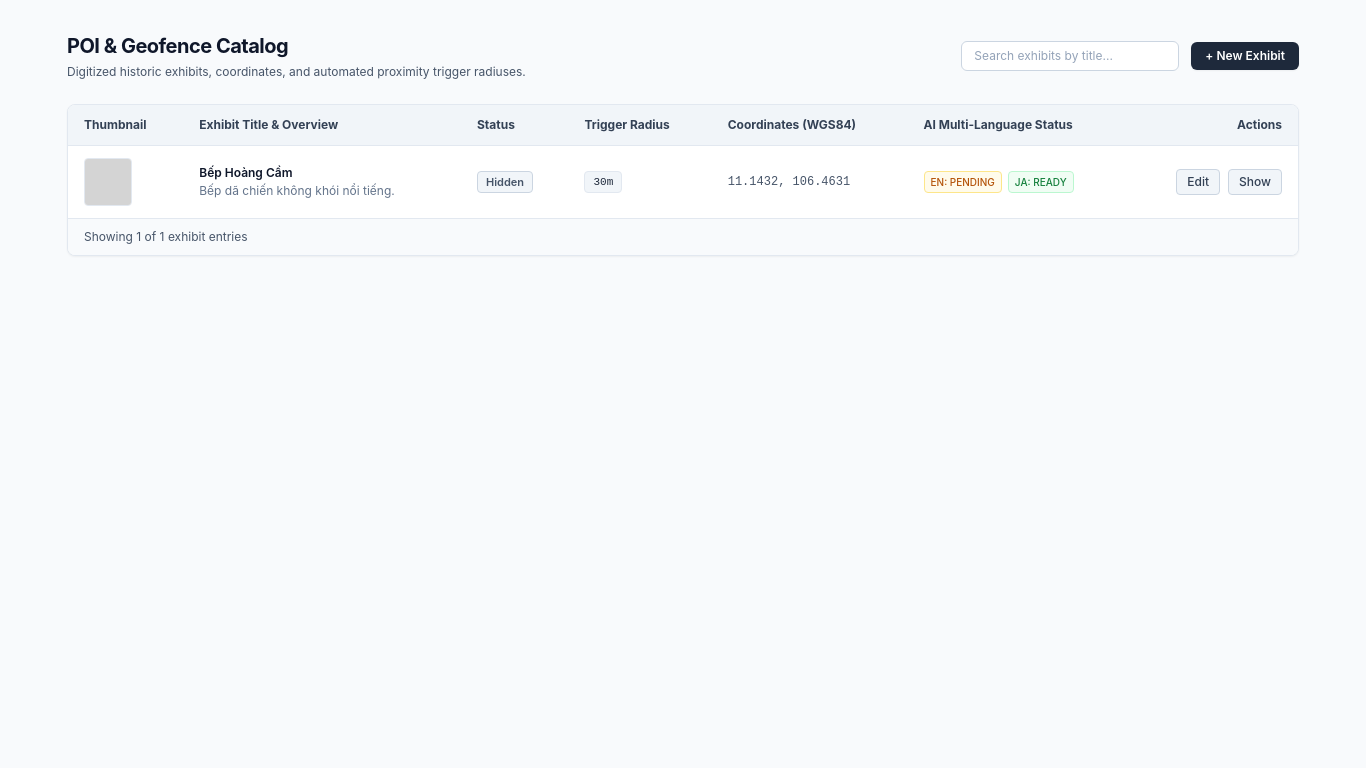
Test: PoiCatalogPage › renders Hidden status badge and reactivates exhibit when clicking Show
Expected: the text "Hidden" is shown, [477,171,533,193]
Click the button "Show".
click(1255, 182)  # box [1228,169,1282,195]
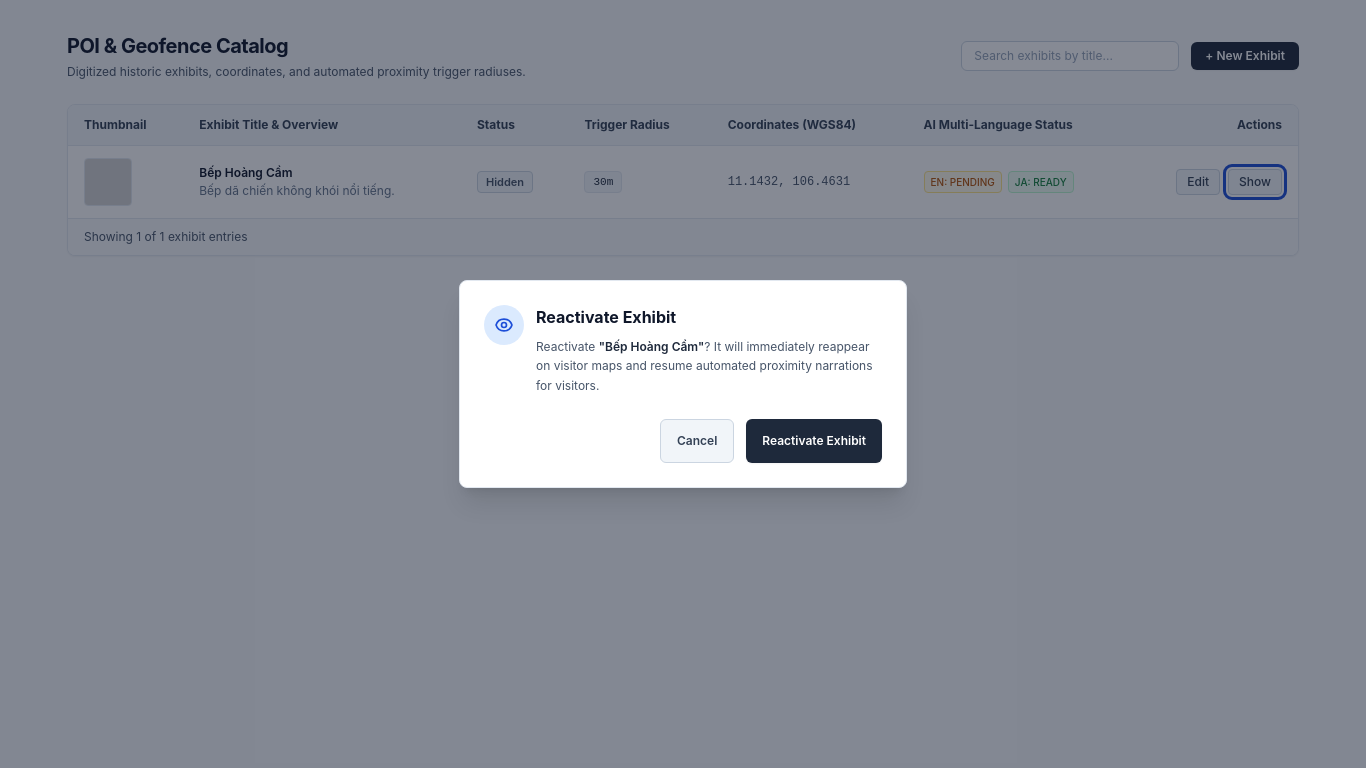
Result: the heading "Reactivate Exhibit" is shown at [536,307,676,327]
Click the button "Reactivate Exhibit".
click(814, 441)  # box [746,419,882,463]
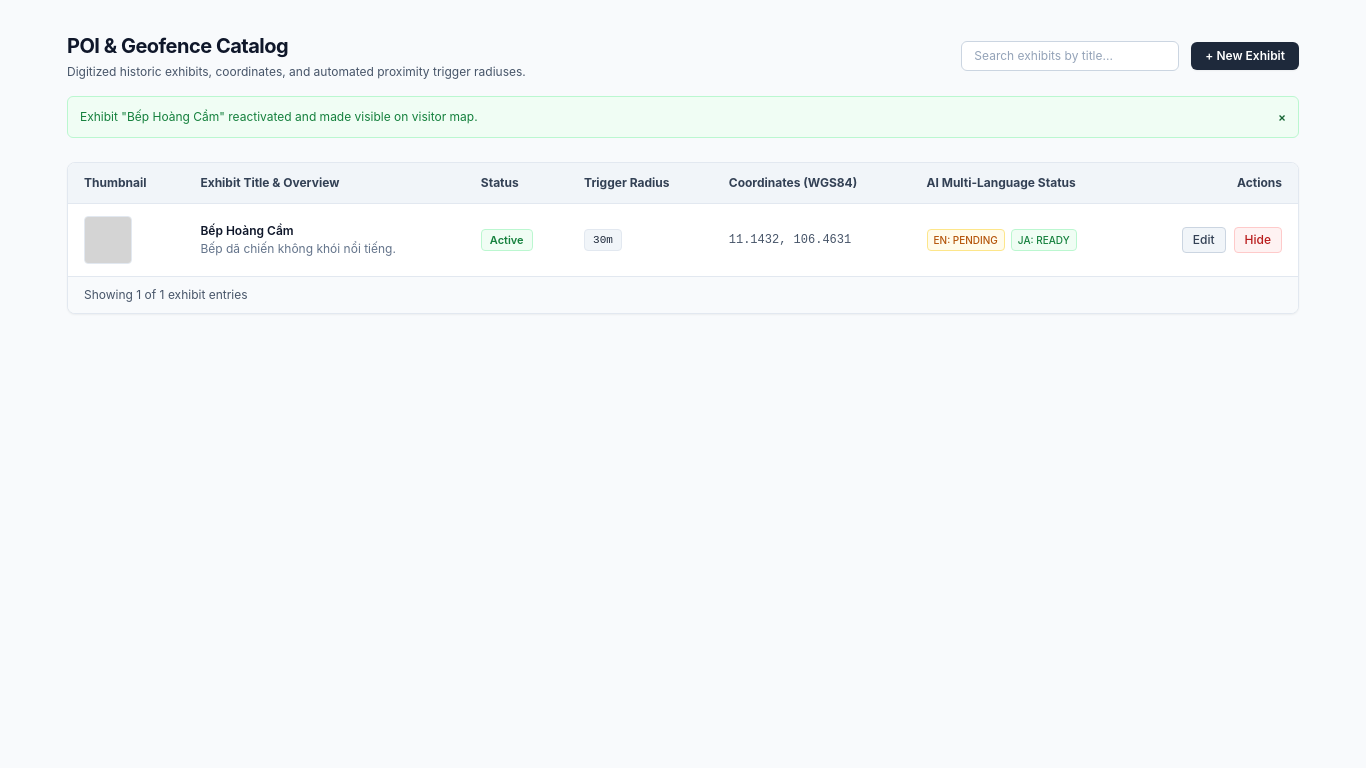
Result: the text "Active" is shown at [481,229,533,251]
Result: the text "reactivated and made visible on visitor map" is shown at [80,109,478,124]
